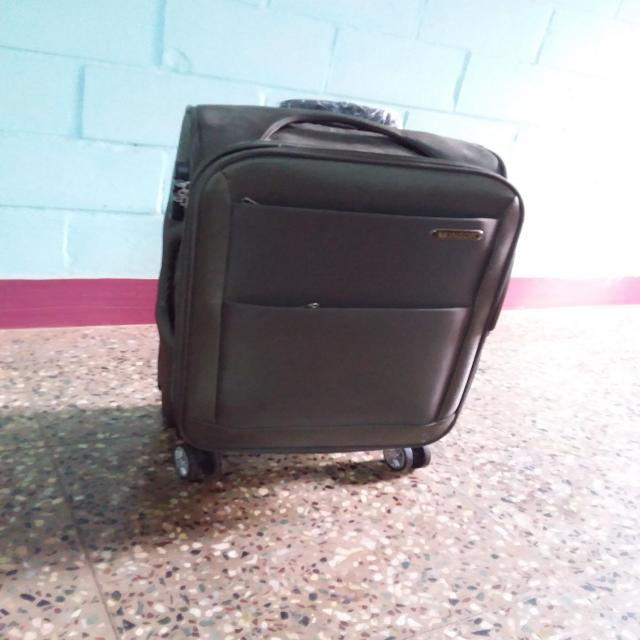luggage: (154, 96, 526, 457)
